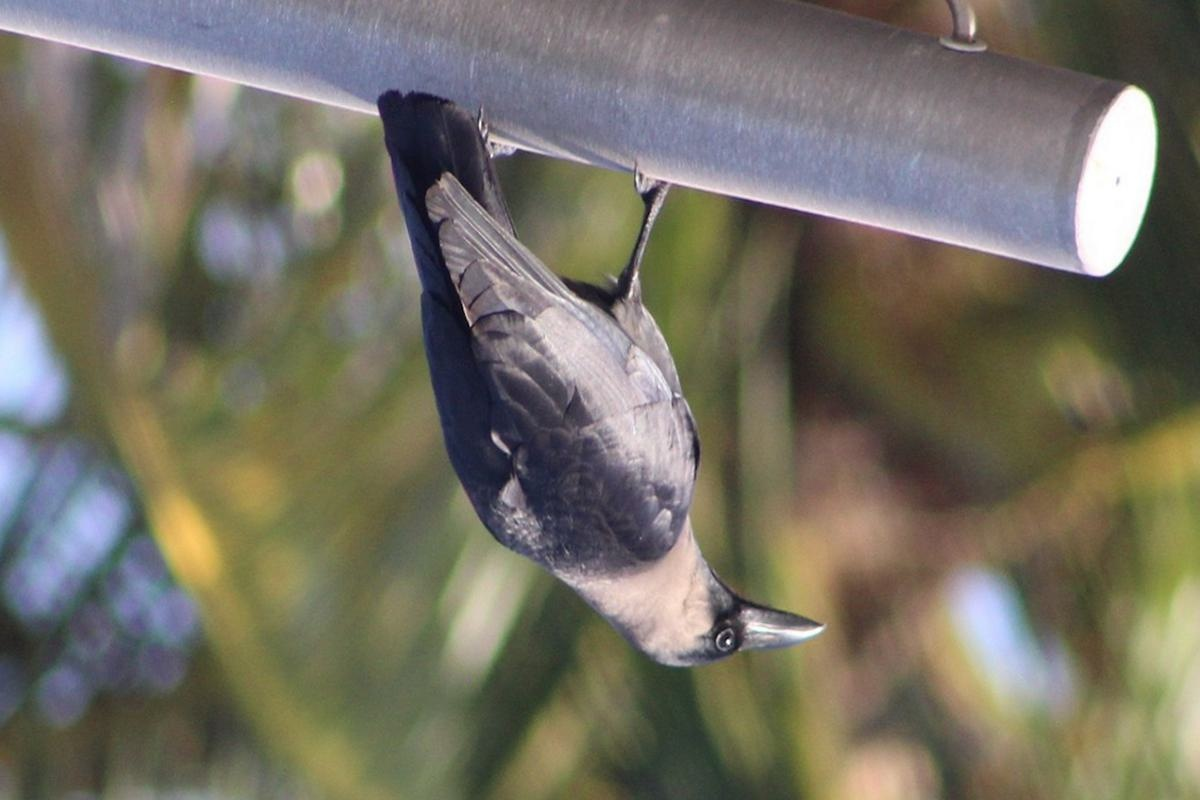crow: (368, 101, 843, 678)
